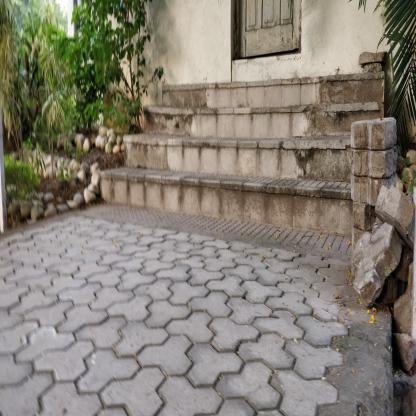stairs: (174, 86, 326, 242)
